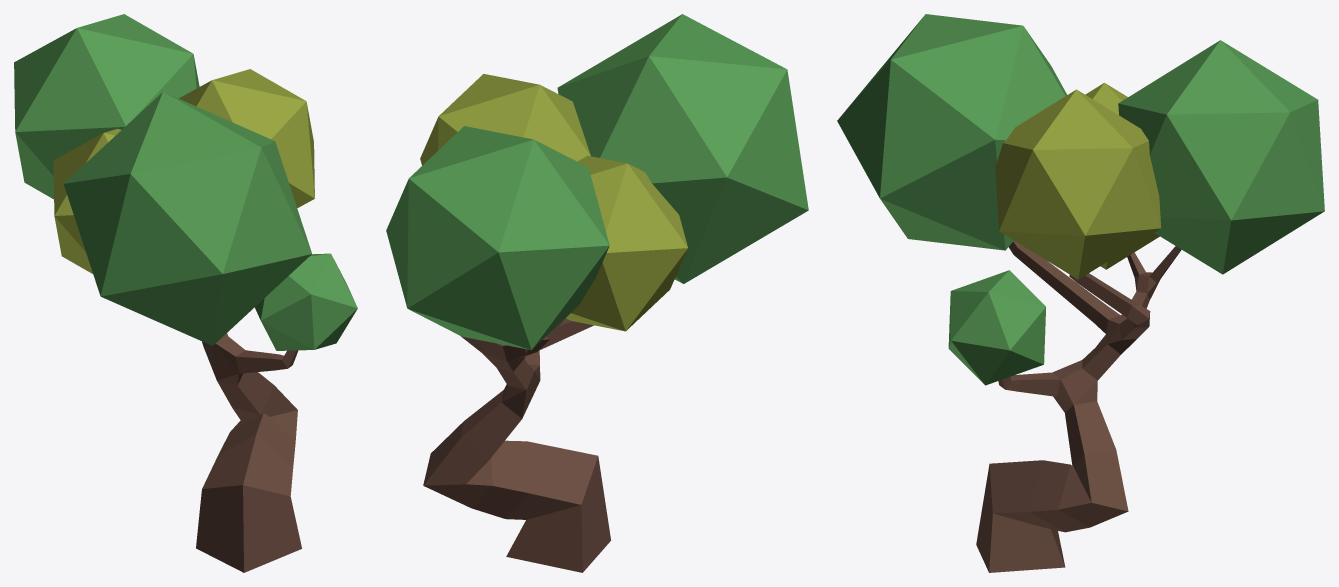
Rendered from Tree_2_TTD.fbx.
The picture shows the model from 3 angles, left to right: view 1: azimuth 30°, elevation 25°; view 2: azimuth 150°, elevation 25°; view 3: azimuth 270°, elevation 25°; orthographic projection. The views are drawn at different scales.
Parts seen in each view (by area): view 1: Icosphere.001, Icosphere.003, Tree_2, Icosphere.002, Icosphere, Icosphere.004; view 2: Icosphere.001, Icosphere.003, Tree_2, Icosphere.004, Icosphere.002; view 3: Icosphere.001, Icosphere.003, Tree_2, Icosphere.002, Icosphere, Icosphere.004.
Boxes of the visible parts, x1=… form: Icosphere.001: x1=63, y1=92, x2=311, y2=345; Icosphere.003: x1=14, y1=14, x2=199, y2=199; Tree_2: x1=196, y1=333, x2=301, y2=572; Icosphere.002: x1=179, y1=69, x2=314, y2=207; Icosphere: x1=255, y1=253, x2=357, y2=350; Icosphere.004: x1=53, y1=129, x2=121, y2=273; Icosphere.001: x1=557, y1=14, x2=808, y2=283; Icosphere.003: x1=386, y1=126, x2=609, y2=350; Tree_2: x1=423, y1=318, x2=610, y2=572; Icosphere.004: x1=566, y1=155, x2=687, y2=331; Icosphere.002: x1=420, y1=74, x2=590, y2=165; Icosphere.001: x1=837, y1=14, x2=1066, y2=250; Icosphere.003: x1=1118, y1=40, x2=1324, y2=274; Tree_2: x1=976, y1=240, x2=1181, y2=572; Icosphere.002: x1=995, y1=89, x2=1161, y2=279; Icosphere: x1=948, y1=270, x2=1046, y2=385; Icosphere.004: x1=1085, y1=83, x2=1159, y2=269.
Size of the model in its own units: 402 by 641 by 579.
